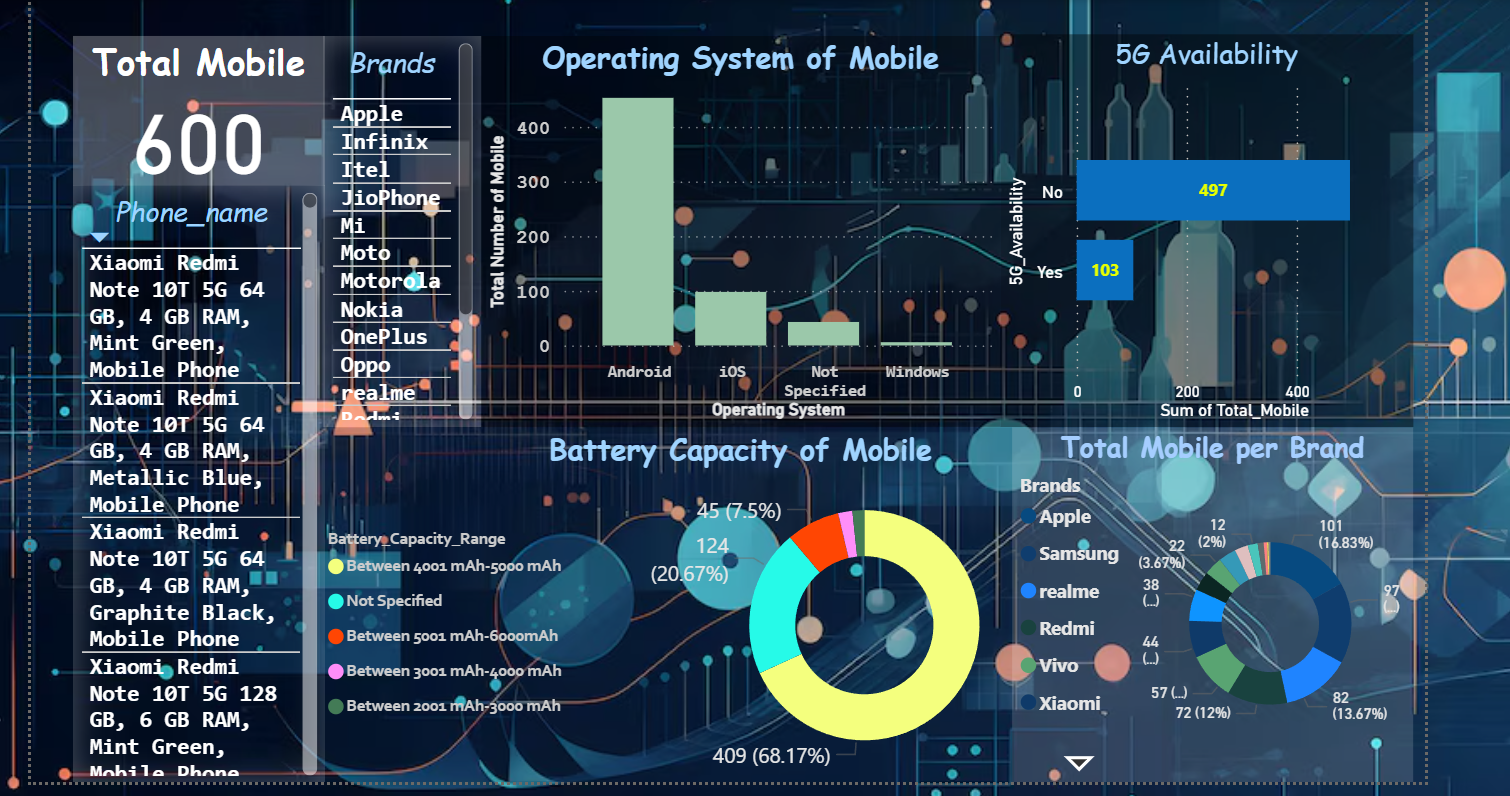

The dashboard page shown, as its layout file describes it:
{"tool":"powerbi","page":{"name":"Page 1","canvas":[900,506],"ordinal":0},"visuals":[{"type":"card","title":"Total Mobile","fields":{"Values":["Sum(mob.Total_Mobile)"]},"box":[26.7,24.1,162.5,96.5],"z":0},{"type":"tableEx","fields":{"Values":["mob.Phone_name"]},"box":[26.7,120.6,162.5,385.8],"z":1000},{"type":"tableEx","fields":{"Values":["mob.Brands"]},"box":[189.1,24.1,101.5,252.6],"z":2000},{"type":"clusteredColumnChart","title":"Operating System of Mobile","fields":{"Category":["mob.Operating_System_Type"],"Y":["Sum(mob.Total_Mobile)"]},"box":[290.7,24.1,335.1,252.6],"z":3000},{"type":"donutChart","title":"Battery Capacity of Mobile","fields":{"Category":["mob.Battery_Capacity_Range"],"Y":["Sum(mob.Total_Mobile)"]},"box":[186.6,276.7,543.2,229.7],"z":4000},{"type":"barChart","title":"5G Availability","fields":{"Category":["mob.5G_Availability"],"Y":["Sum(mob.Total_Mobile)"]},"box":[625.7,22.8,266.5,253.8],"z":4001},{"type":"donutChart","title":"Total Mobile per Brand","fields":{"Category":["mob.Brands"],"Y":["Sum(mob.Total_Mobile)"]},"box":[633.3,276.7,258.9,229.7],"z":4002}]}

Visuals, with their boxes on the page's 900x506 design canvas (x1, y1, x2, y2). These are canvas units, not pixel positions in the 1510x796 screenshot, which may show the page scaled, cropped or inside an application window:
"Total Mobile" card: x1=27 y1=24 x2=189 y2=121
tableEx - mob.Phone_name: x1=27 y1=121 x2=189 y2=506
tableEx - mob.Brands: x1=189 y1=24 x2=291 y2=277
"Operating System of Mobile" clusteredColumnChart: x1=291 y1=24 x2=626 y2=277
"Battery Capacity of Mobile" donutChart: x1=187 y1=277 x2=730 y2=506
"5G Availability" barChart: x1=626 y1=23 x2=892 y2=277
"Total Mobile per Brand" donutChart: x1=633 y1=277 x2=892 y2=506
